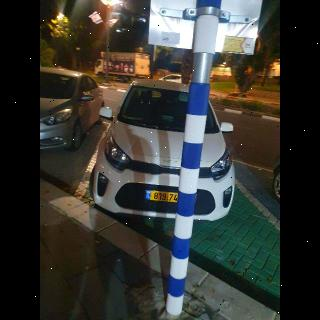LicensePlate: (150, 191, 178, 202)
